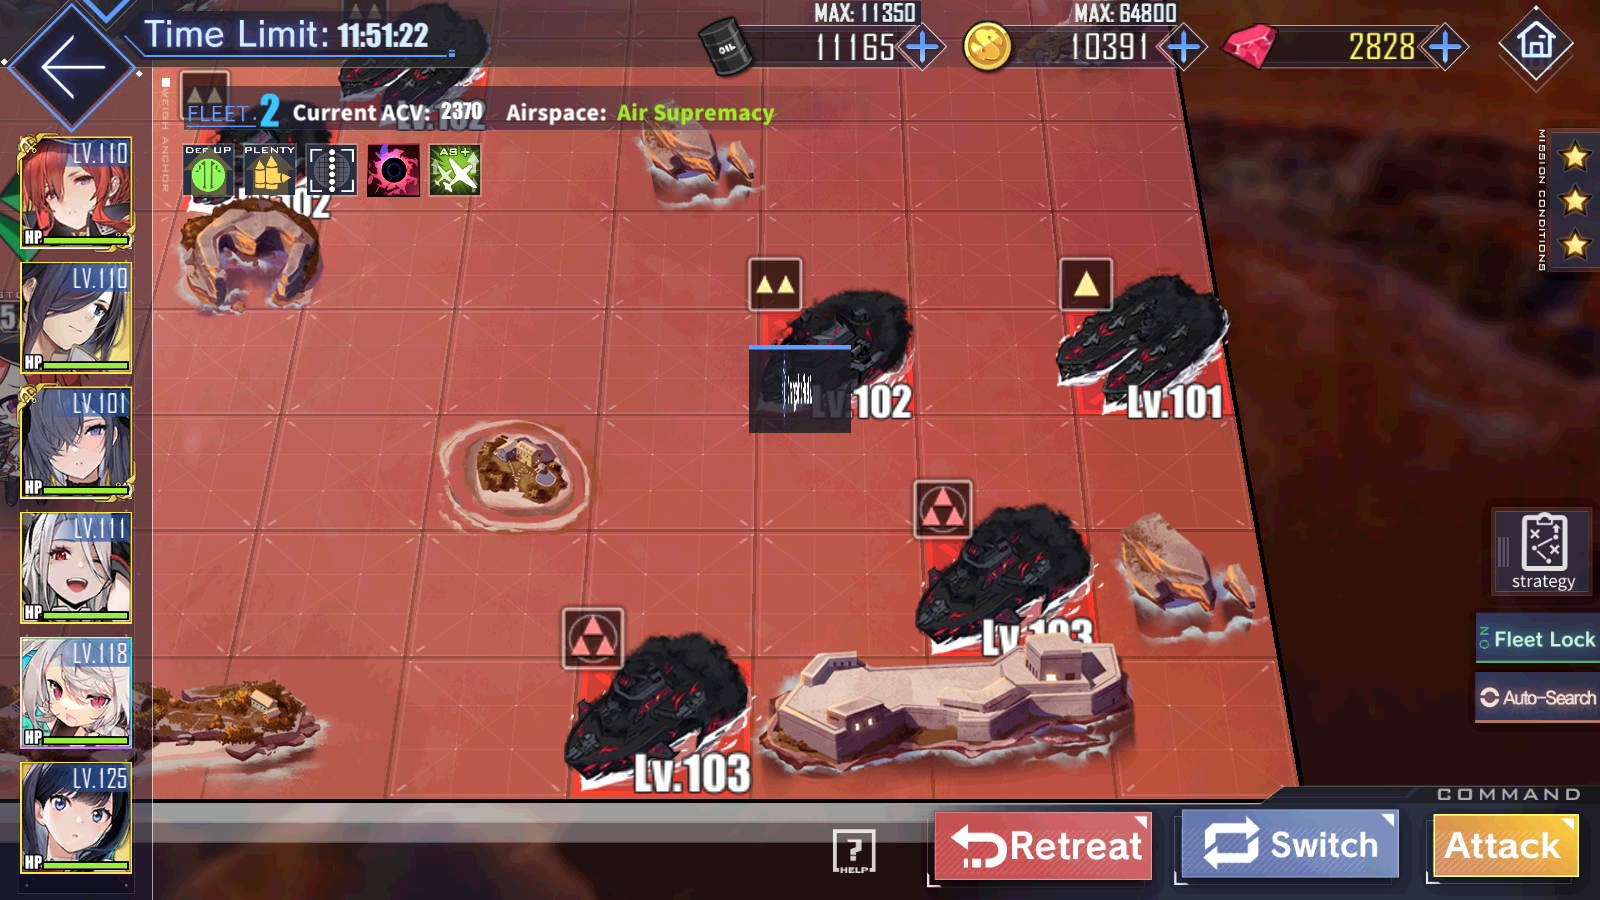enemy: (562, 611, 751, 798), (912, 478, 1097, 655), (749, 257, 916, 418), (1062, 257, 1229, 413)
